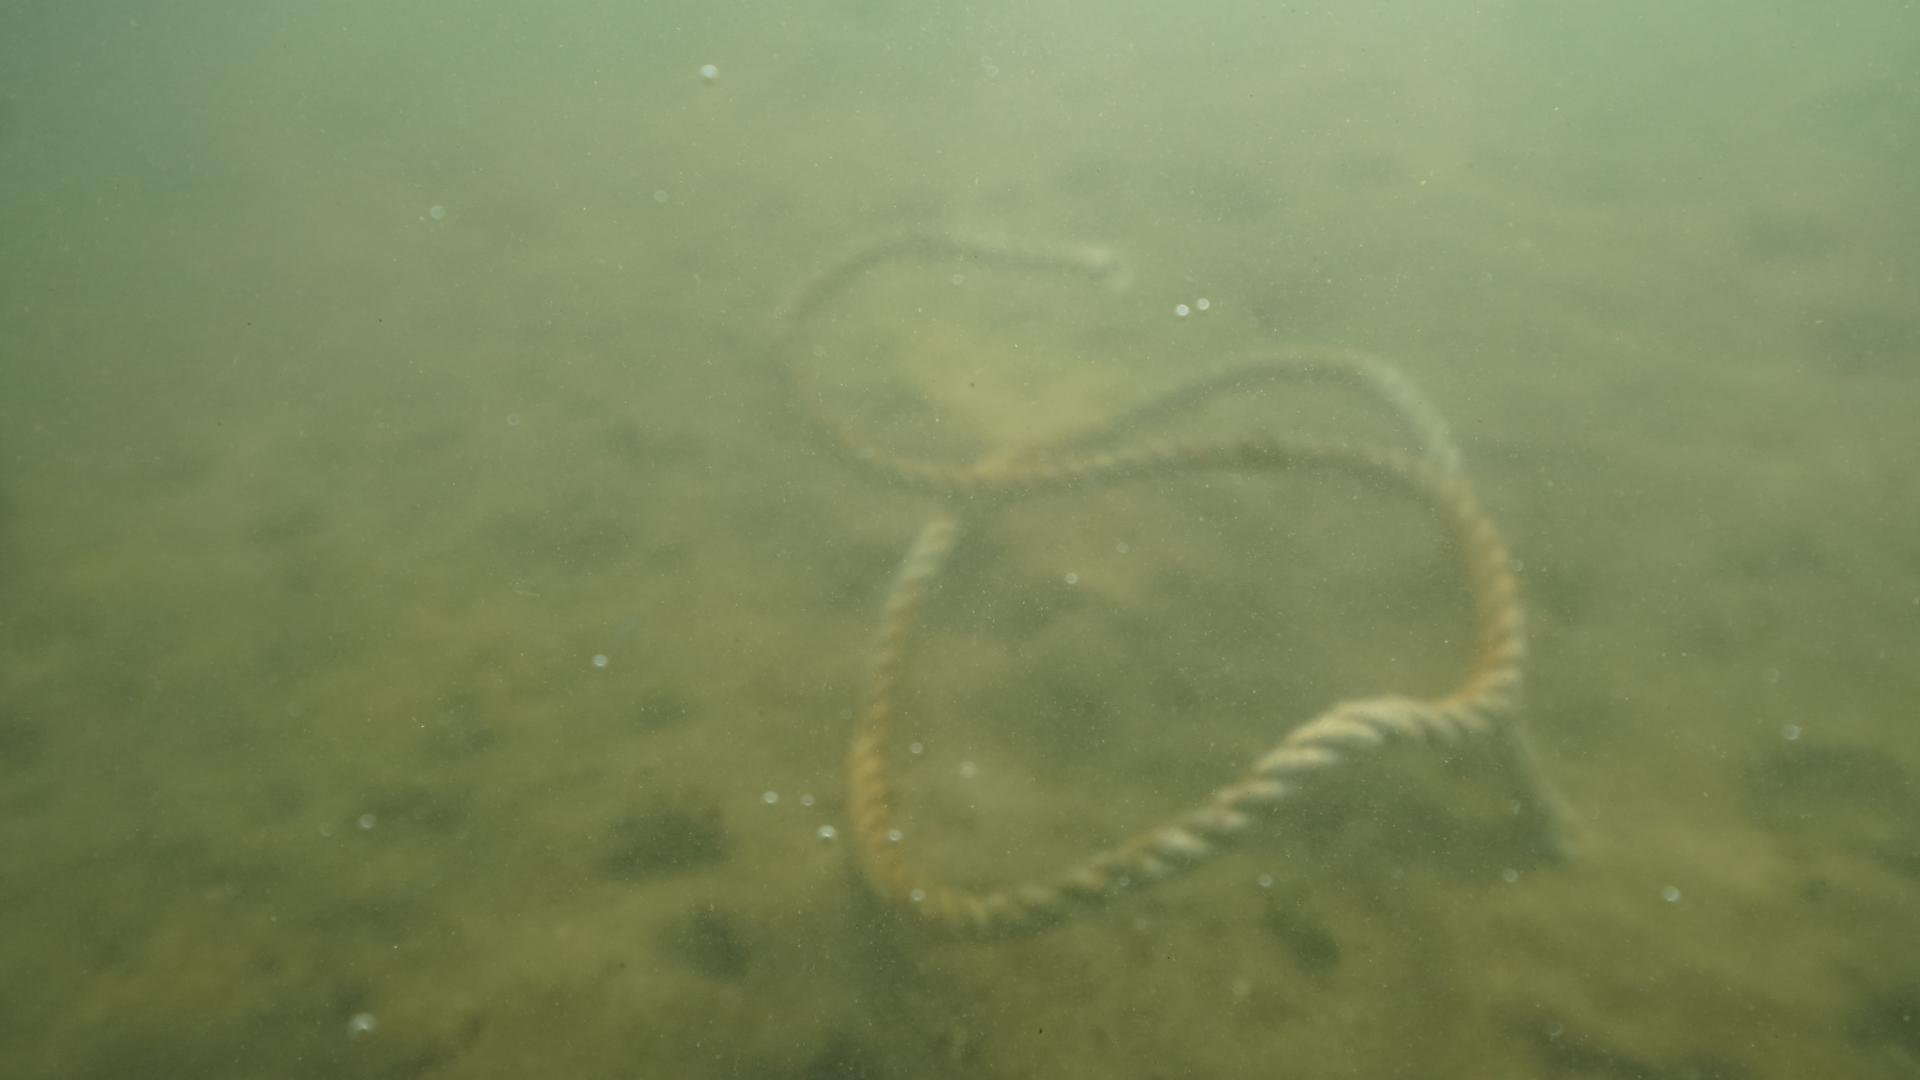bundle of ropes: (761, 219, 1598, 949)
